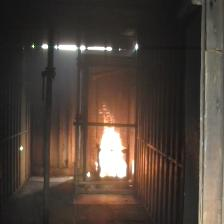fire: (97, 105, 128, 178)
